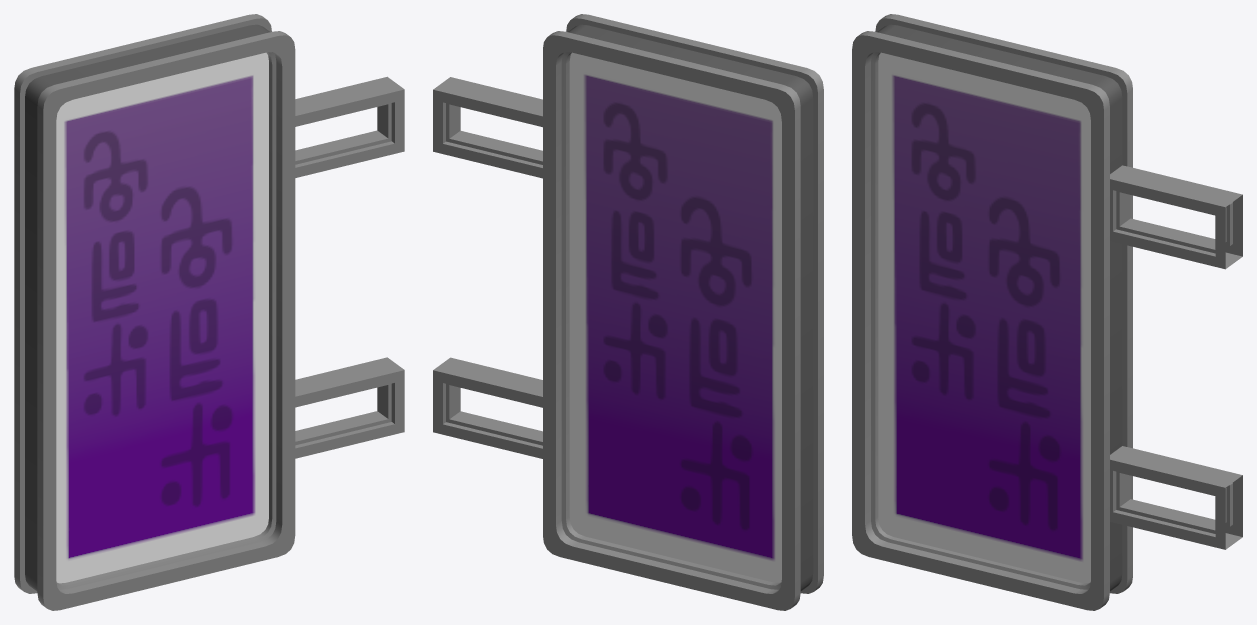
3 renders of one model, left to right at view 1: azimuth 30°, elevation 25°; view 2: azimuth 150°, elevation 25°; view 3: azimuth 330°, elevation 25°, orthographic.
Parts seen in each view (by area): view 1: MS_2M_6; view 2: MS_2M_6; view 3: MS_2M_6.
Boxes of the visible parts, box(x1,y1,x2,y2) form: MS_2M_6: box(14, 14, 404, 610); MS_2M_6: box(433, 14, 823, 610); MS_2M_6: box(852, 14, 1242, 610).
Bounding box in the file's own units: 146 × 198 × 19.93.
